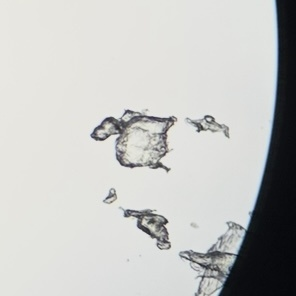microplastic: (90, 110, 177, 174), (179, 222, 246, 296), (124, 209, 170, 249), (185, 114, 230, 139), (103, 187, 117, 205)
